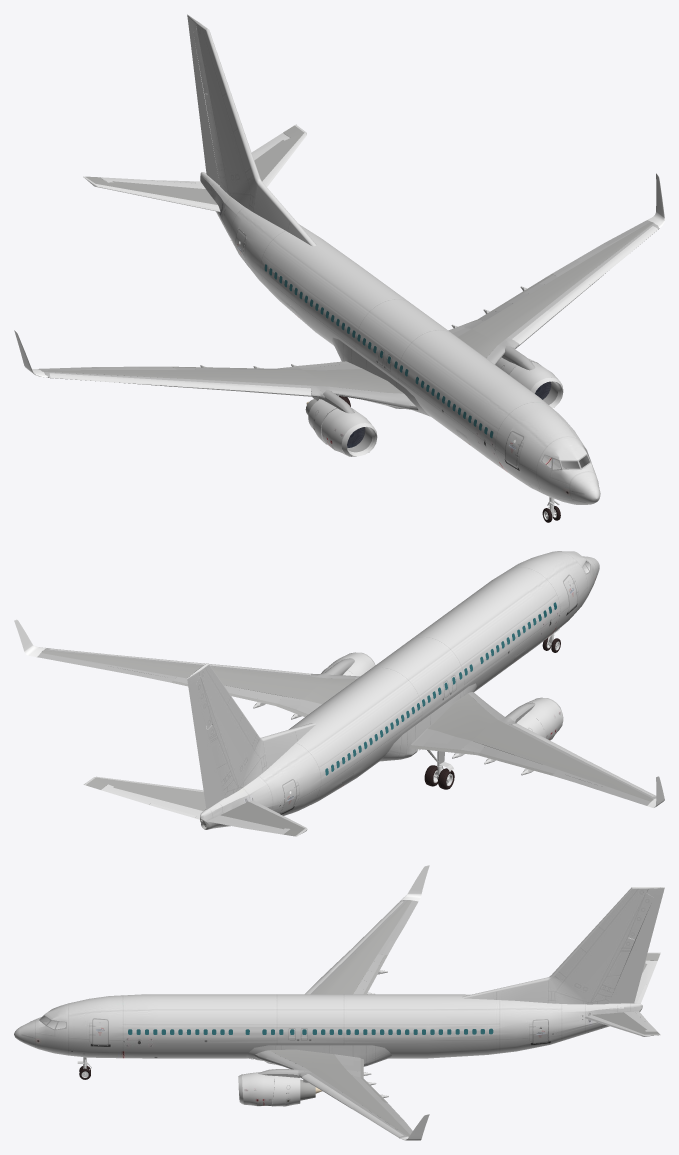
3 views of the same model, one above another, from view 1: azimuth 30°, elevation 25°; view 2: azimuth 150°, elevation 25°; view 3: azimuth 270°, elevation 25° (orthographic). The views are drawn at different scales.
Visible parts, largest first — view 1: body; view 2: body, gear_retract, flap_right; view 3: body.
Part boxes in pixels (<box>): body: <box>14,14,664,504</box>; body: <box>14,551,664,836</box>; gear_retract: <box>424,629,560,789</box>; flap_right: <box>409,745,553,775</box>; body: <box>14,865,664,1140</box>.
Size of the model in its own units: 35.69 by 12.93 by 39.42.
61 materials, 18 textured.
